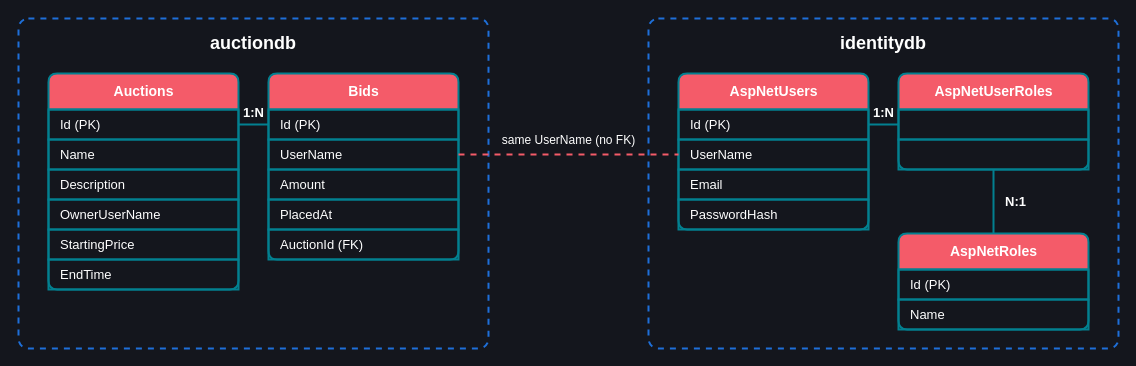
This 1136x366 diagram has some shape labels left out. The shapes that lost their labels are listed below. From the top down, each one's centre as x and y in pixels, then its label:
pixel 993 124: UserId (PK, FK)
pixel 993 154: RoleId (PK, FK)
